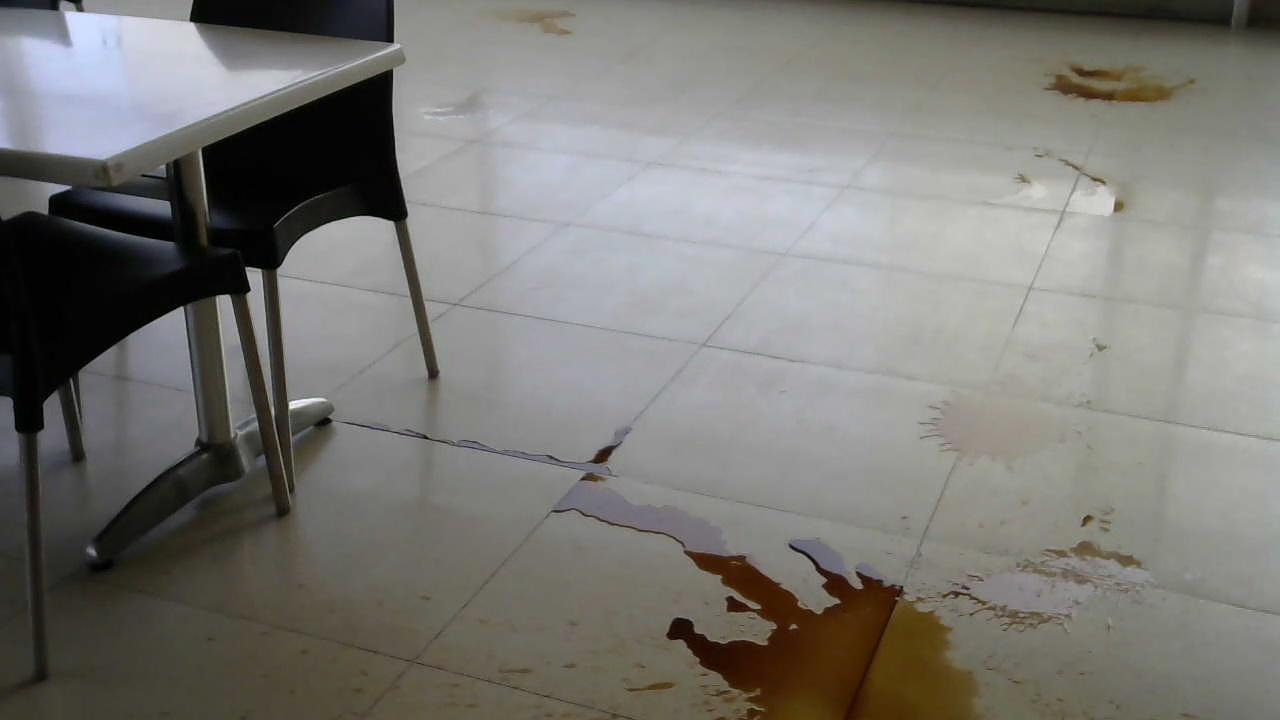dirty_floor: (453, 414, 1172, 713), (911, 330, 1123, 465), (987, 142, 1140, 232), (1037, 50, 1201, 111), (494, 2, 585, 44), (414, 84, 498, 123)
